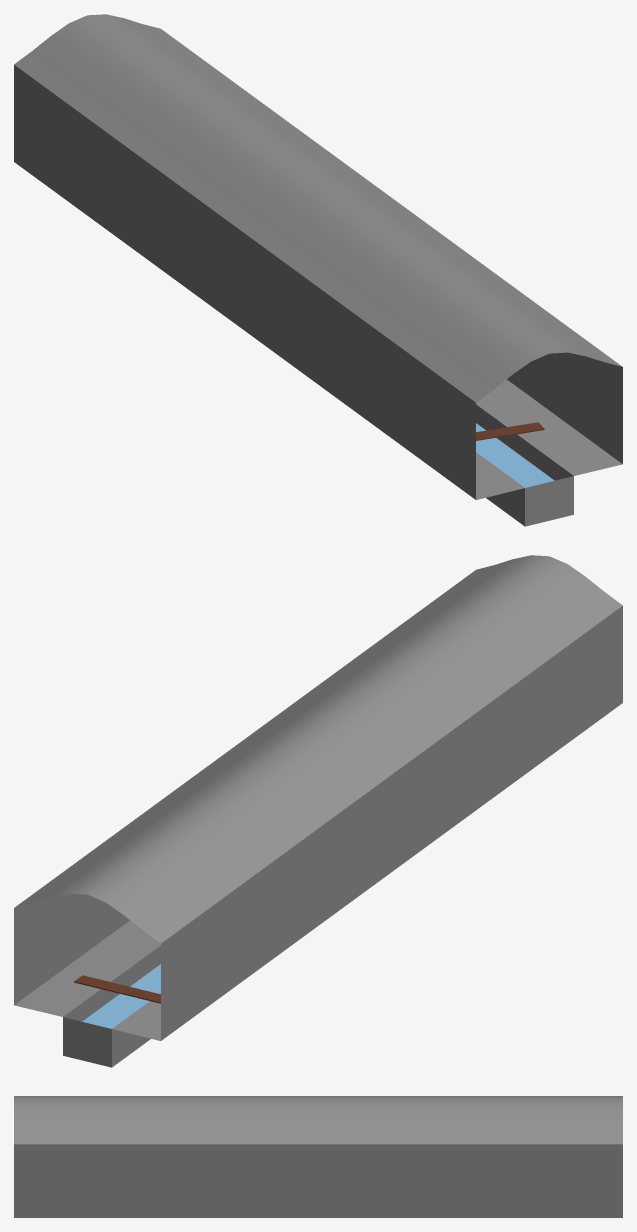
The model's file is TestScene.fbx.
3 renders of one model, top to bottom at view 1: azimuth 30°, elevation 25°; view 2: azimuth 150°, elevation 25°; view 3: azimuth 270°, elevation 25°, orthographic. The views are drawn at different scales.
Parts seen in each view (by area): view 1: Walls, Water; view 2: Walls, Water, Plank; view 3: Walls.
Boxes of the visible parts, left/top/right/bottom form: Walls: left=14, top=14, right=622, bottom=526; Water: left=476, top=423, right=554, bottom=487; Walls: left=14, top=555, right=622, bottom=1067; Water: left=82, top=964, right=160, bottom=1028; Plank: left=74, top=975, right=160, bottom=1003; Walls: left=14, top=1096, right=622, bottom=1217.
Bounding box in the file's own units: 2000 × 2175 × 10902.
